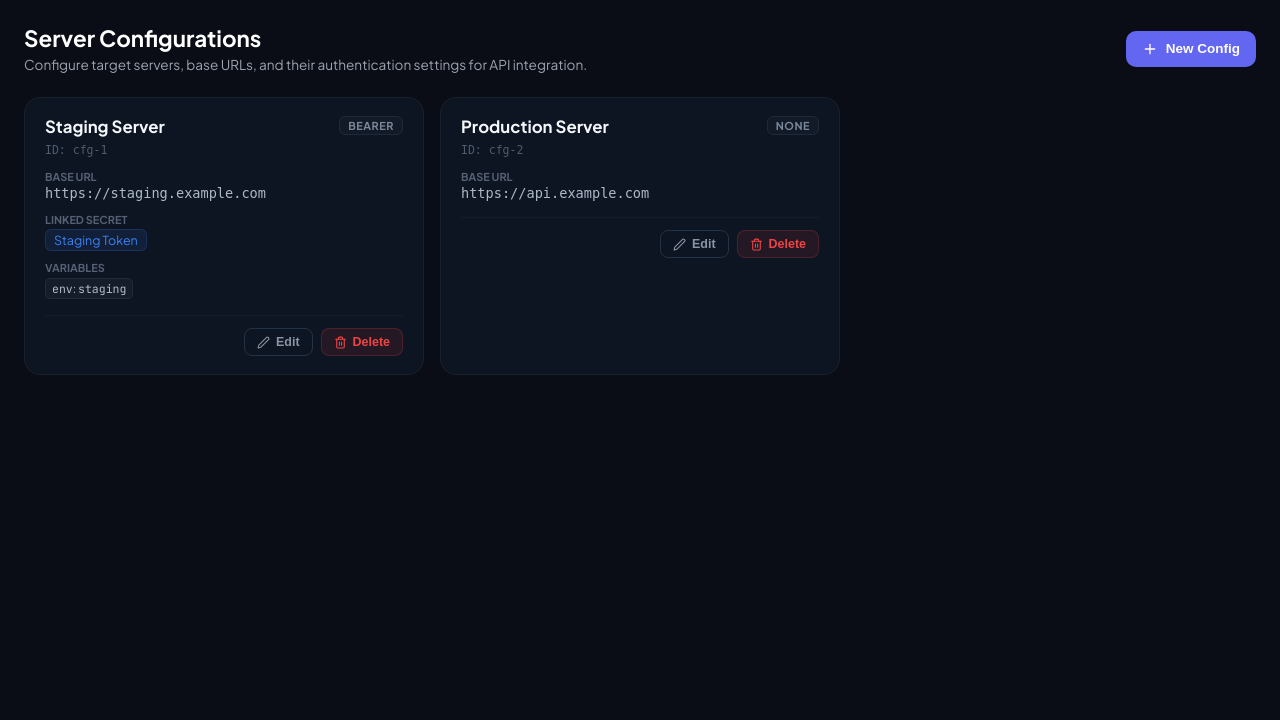
Test: ServerConfigManager › edit_prefills_form
The width and height of the screenshot is (1280, 720).
Expected: the heading "Staging Server" is shown, [45,116,165,137]
Step 1. Click the button with aria-label "Edit Staging Server" → x=278, y=342, box [244,328,313,356]
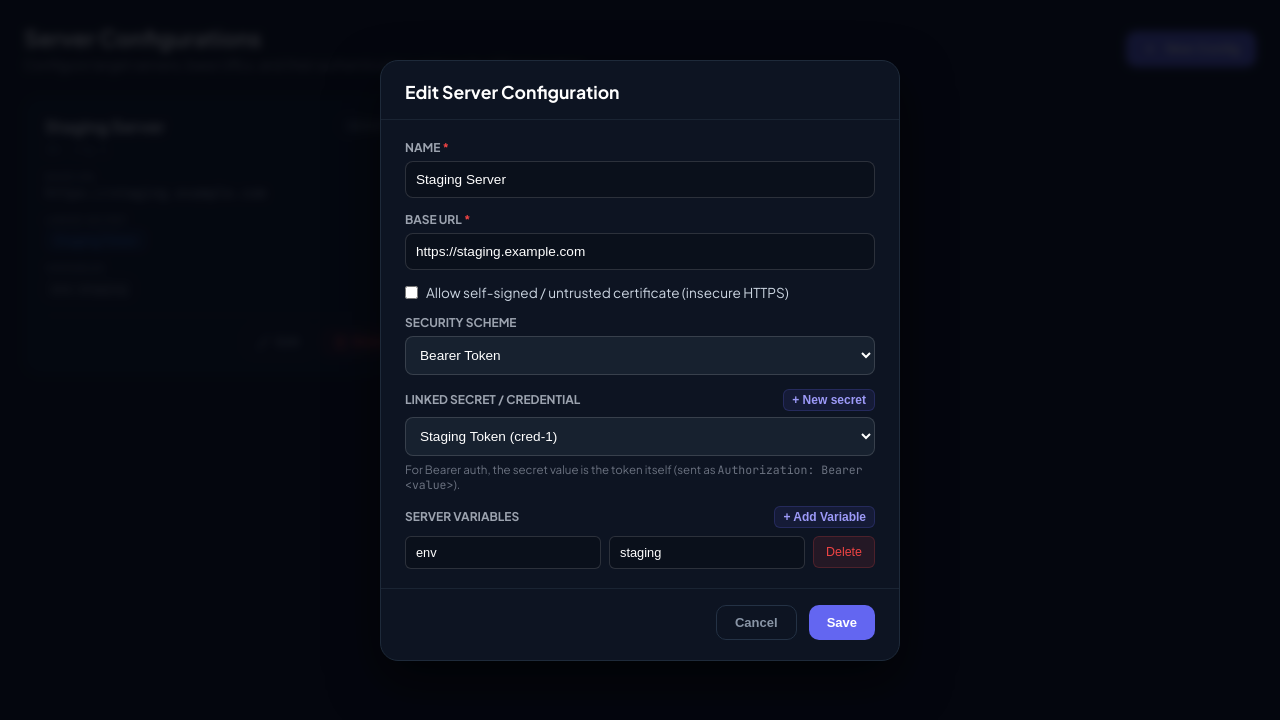
Now the heading "Edit Server Configuration" is shown, box [405,80,620,102]
Now the field labelled "Name *" holds "Staging Server", box [405,160,875,198]
Now the field labelled "Base URL *" holds "https://staging.example.com", box [405,232,875,270]
